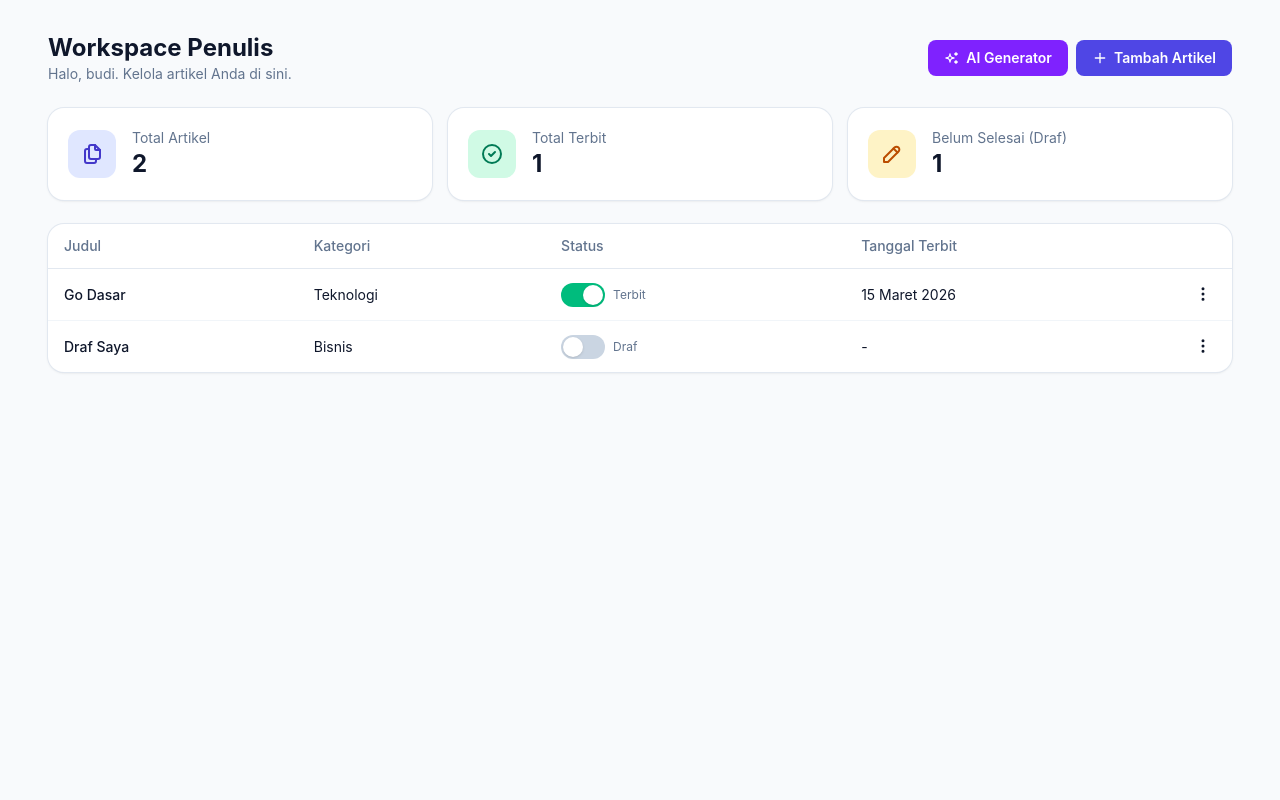
Test: AuthorDashboard menu kebab › menu menutup saat klik di luar menu
This screenshot has width=1280, height=800.
Expected: the text "Go Dasar" is shown, 48,268 -> 298,320
Click the button named "Menu aksi Go Dasar": [1203, 294] box 1190,281 -> 1216,307
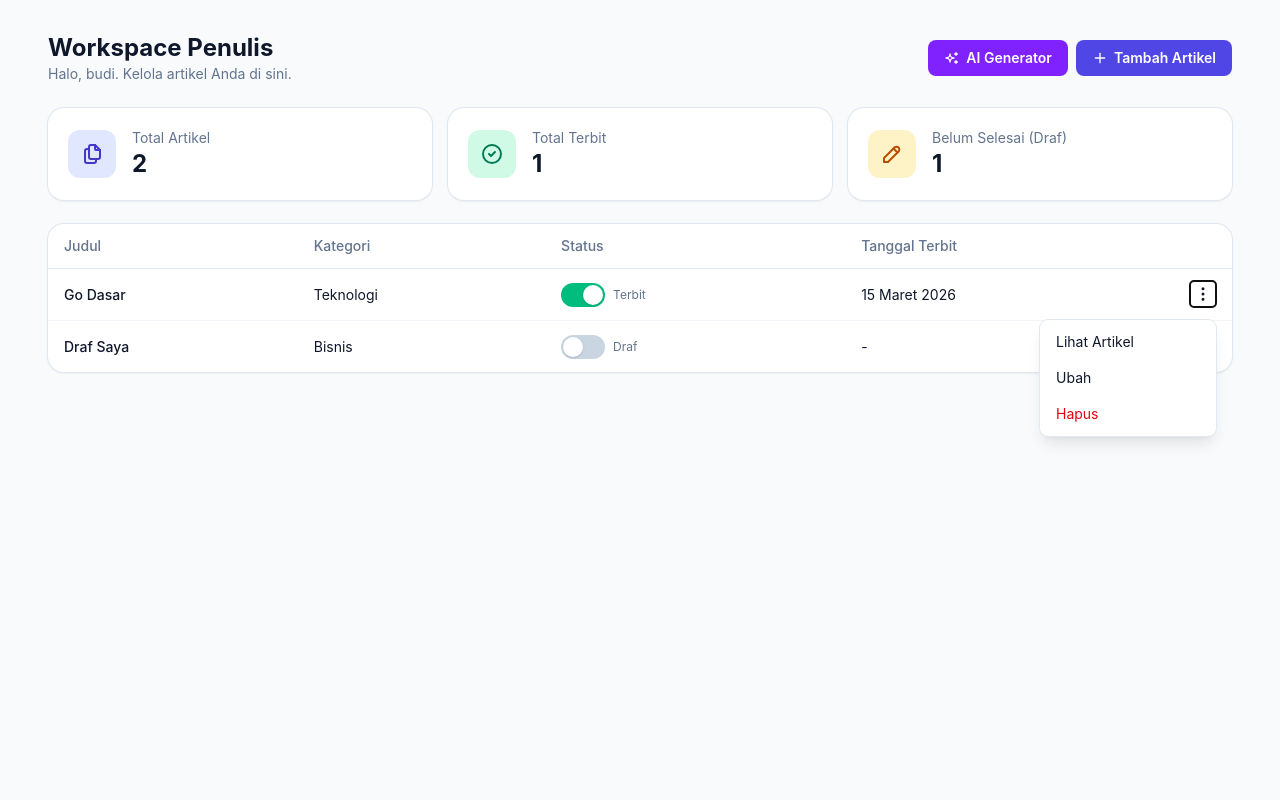
Click the element with test id "menu-backdrop": [640, 400] box 0,0 -> 1279,799
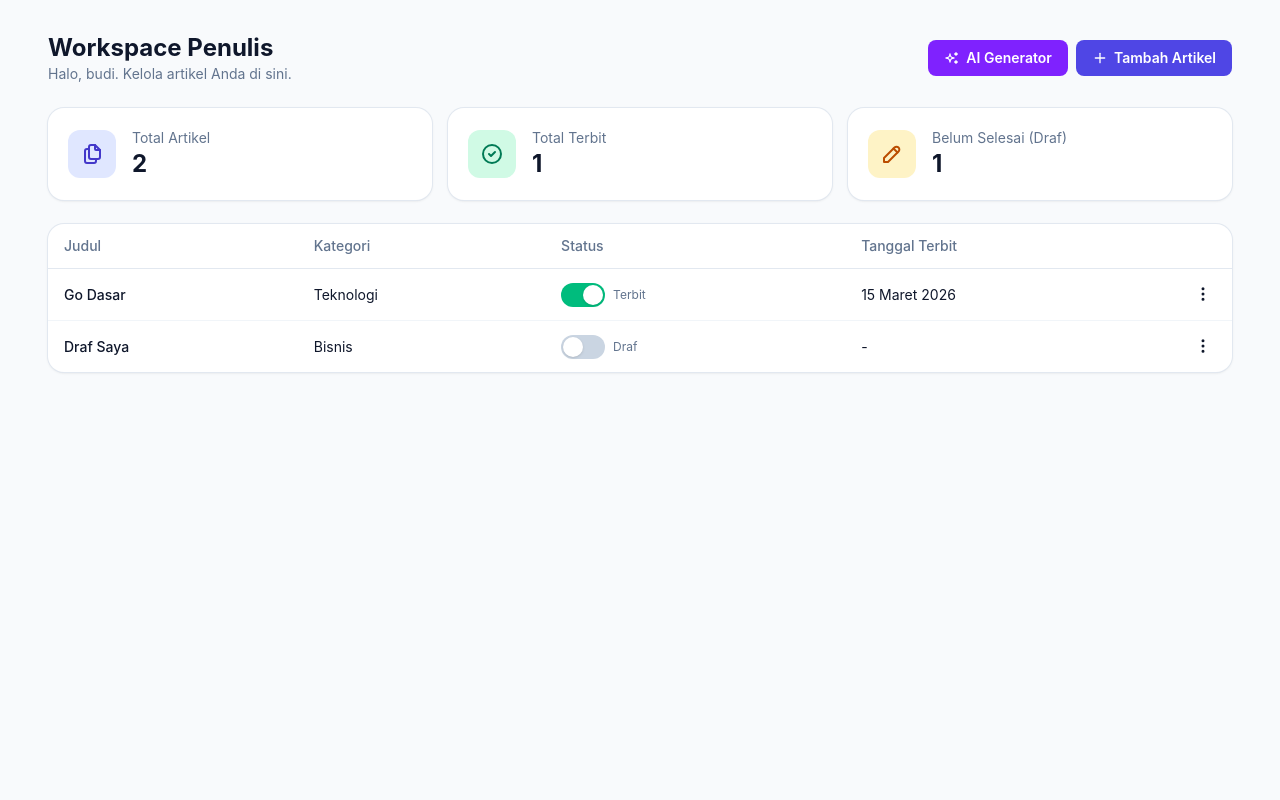
Result: the menu is gone
Result: the element with test id "menu-backdrop" is gone
